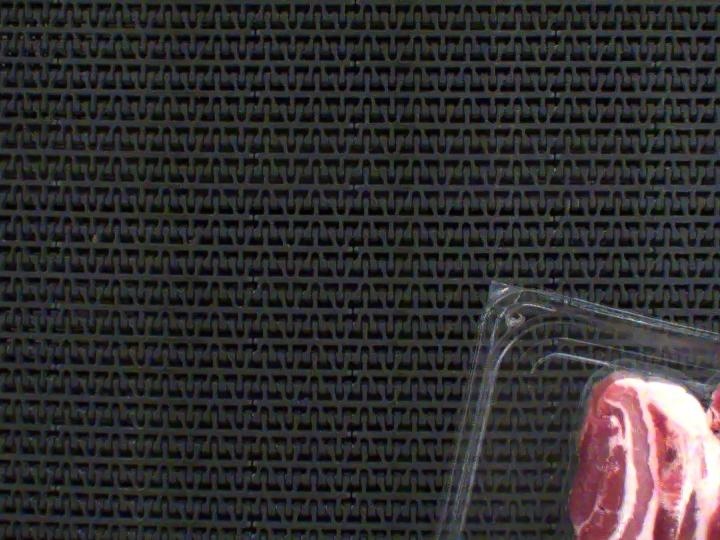unsealed: (553, 338, 720, 501)
